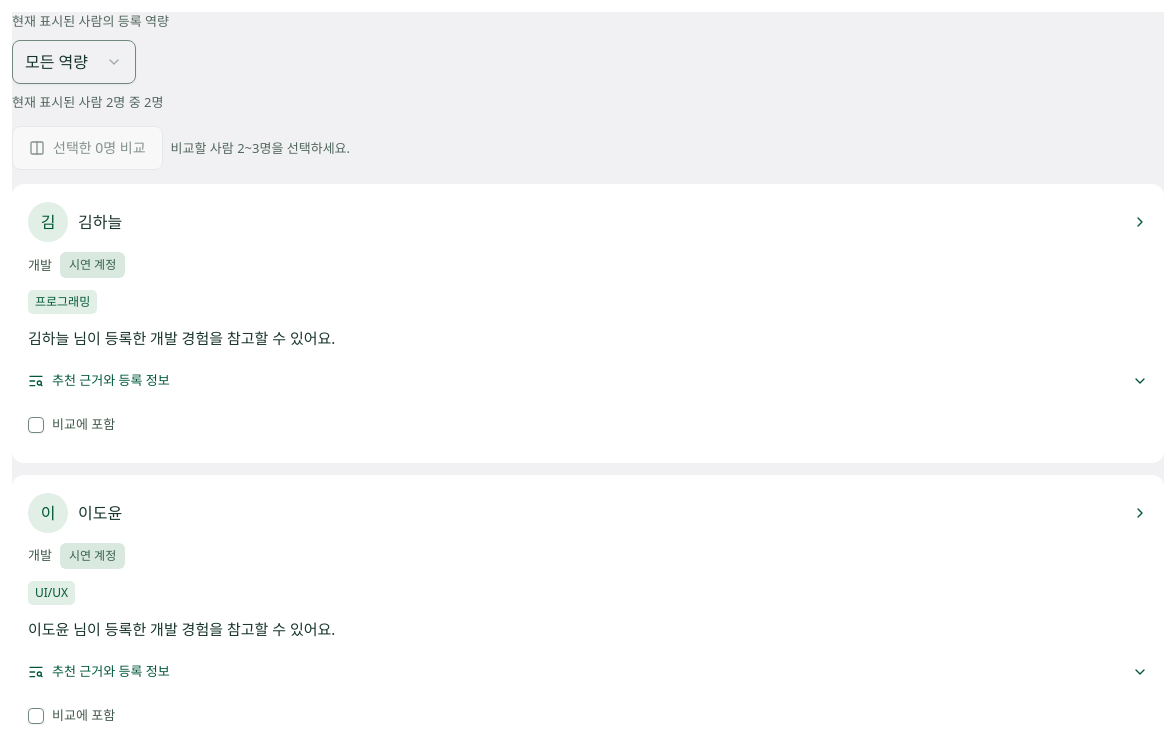
Scenario: AiResultCards › separates evidence disclosure from the detail link and keeps missing time distinct
This screenshot has width=1164, height=731.
Click the heading "추천 근거와 등록 정보" below "김하늘 님이 등록한 개발 경험을 참고할 수 있어요.".
click(111, 380)  # box [28,371,1148,389]
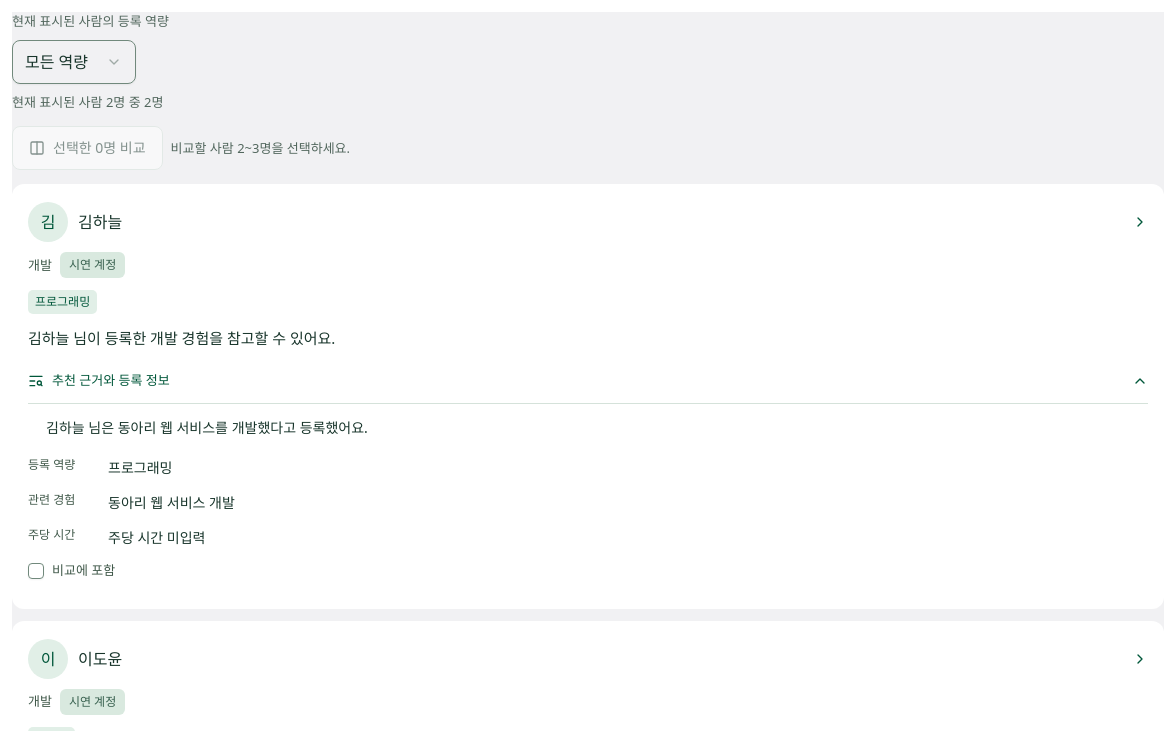
Expected: the text "주당 시간 미입력" is shown, [108,528,206,547]
Expected: the list item "김하늘 님은 동아리 웹 서비스를 개발했다고 등록했어요." is shown, [46,418,368,437]
